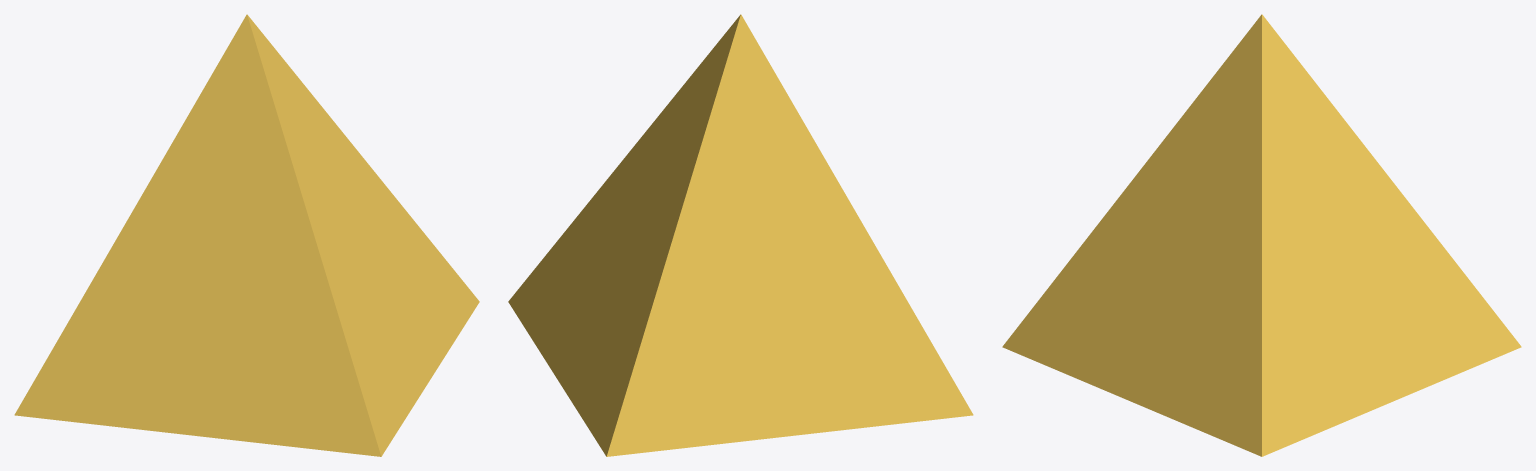
The picture shows the model from 3 angles, left to right: view 1: azimuth 30°, elevation 25°; view 2: azimuth 150°, elevation 25°; view 3: azimuth 270°, elevation 25°; orthographic projection. The views are drawn at different scales.
Parts seen in each view (by area): view 1: pyramid; view 2: pyramid; view 3: pyramid.
Part boxes in pixels (x1=…): pyramid: x1=14, y1=14, x2=479, y2=456; pyramid: x1=508, y1=14, x2=973, y2=456; pyramid: x1=1002, y1=14, x2=1521, y2=456.
Size of what is drawn, in the model's own units: 1.7 by 1.2 by 1.7.
